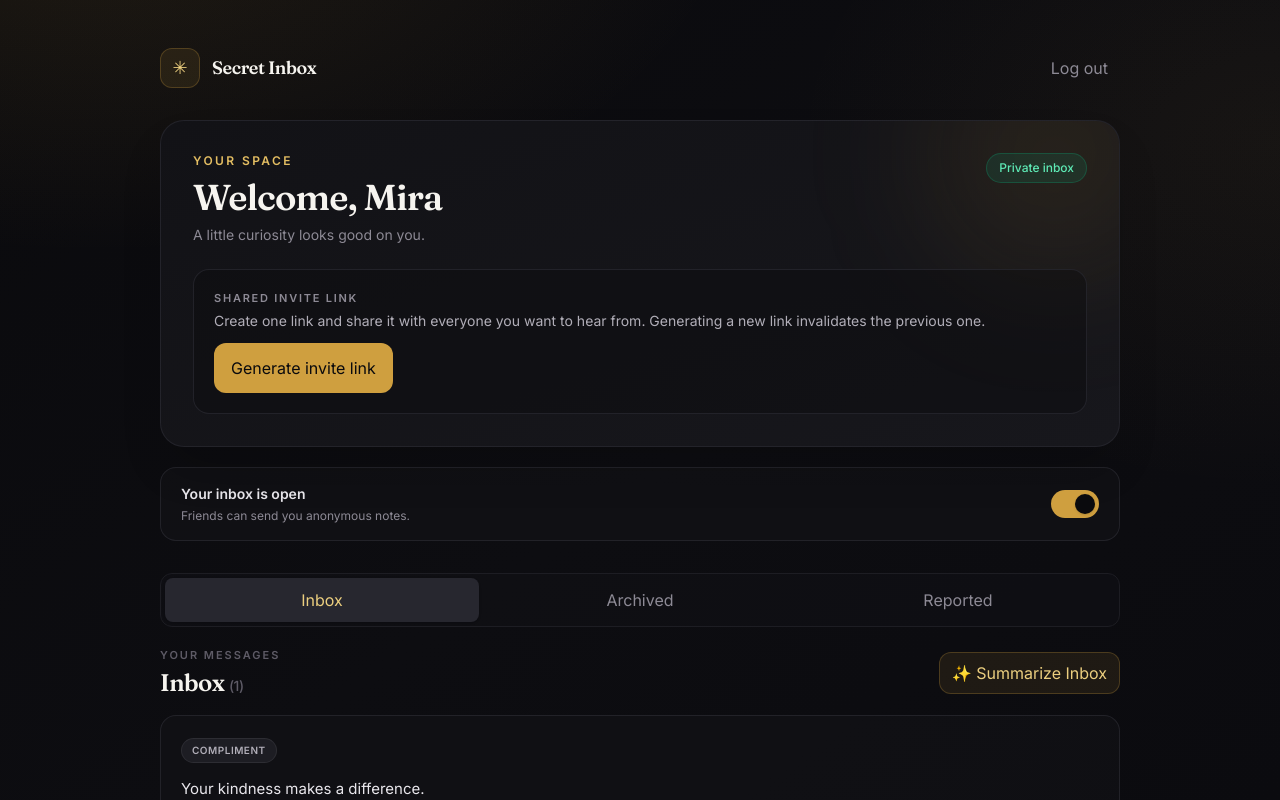
Test: inbox dashboard › displays the generated inbox summary
expect the text "Your kindness makes a difference." is shown: met, box [181,779,425,798]
Step 1. Click the button "✨ Summarize Inbox" → coordinates (1029, 673), box [939,652,1120,694]
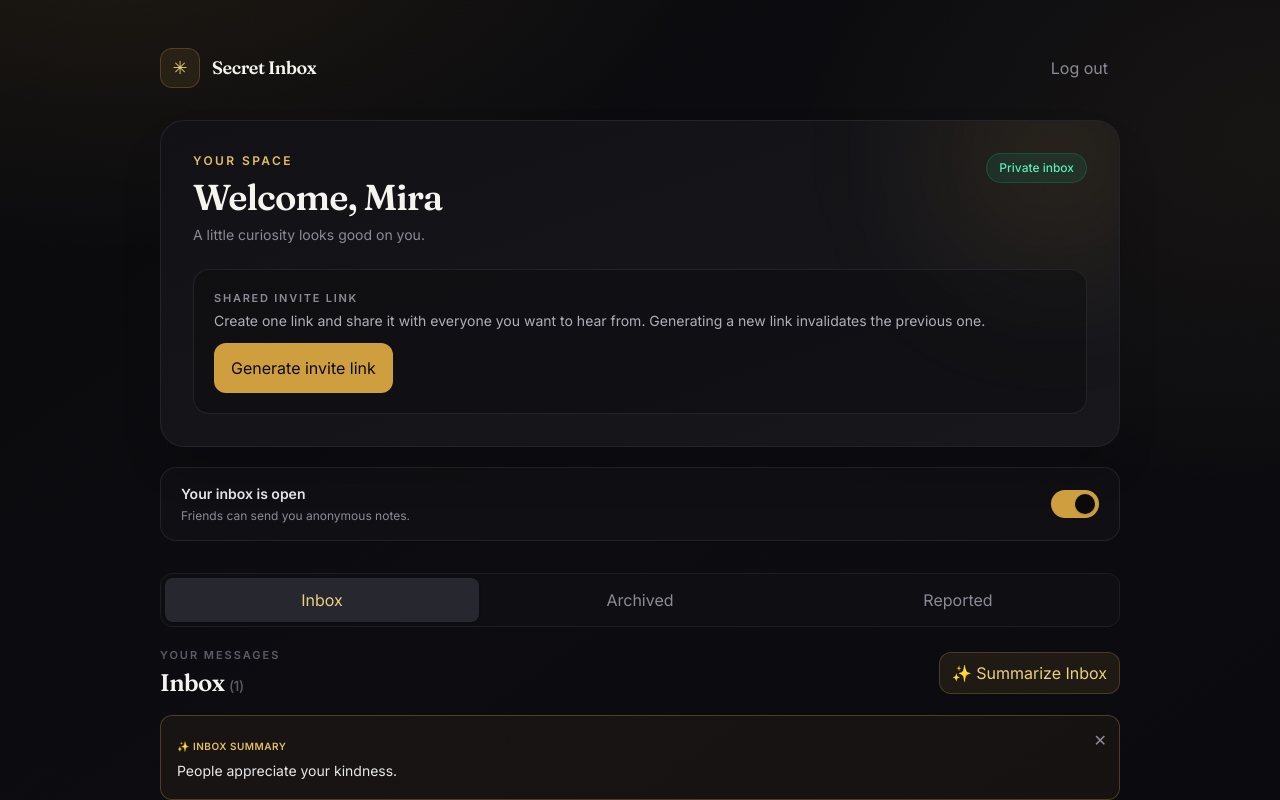
expect the text "People appreciate your kindness." is shown: met, box [177,762,397,779]
